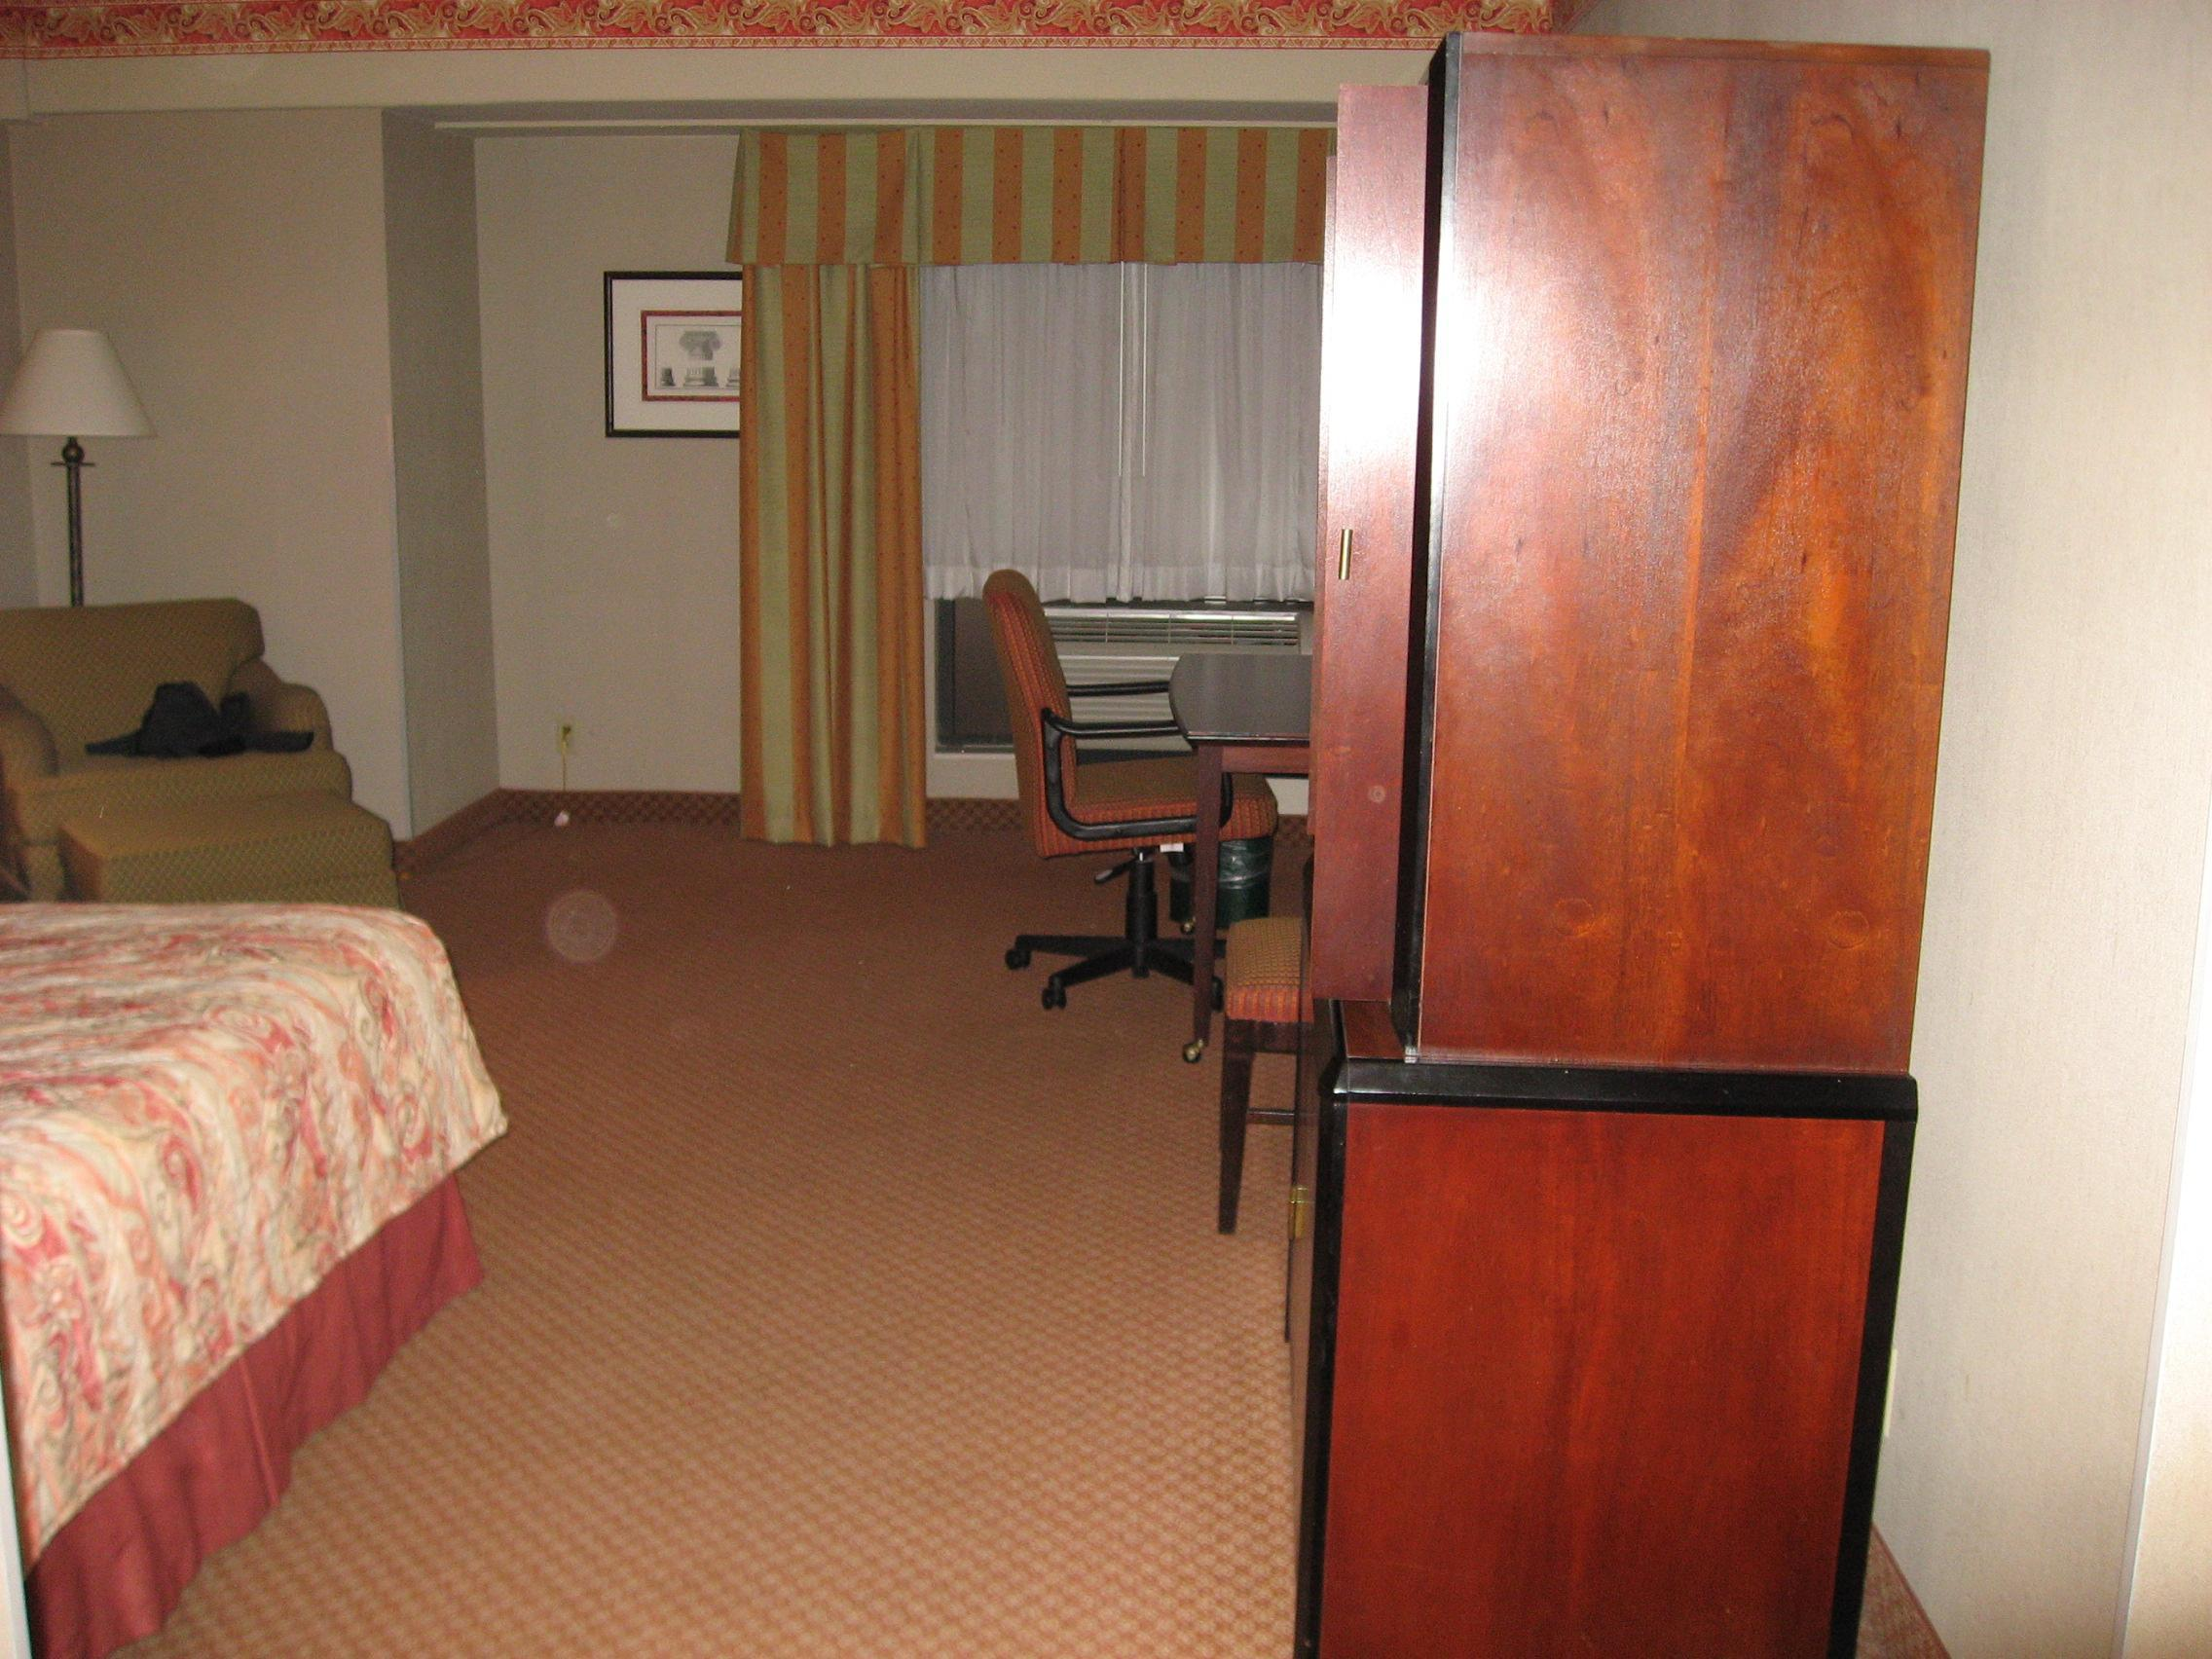Armario: (1331, 89, 1858, 1650)
Bote de Basura: (1183, 760, 1285, 943)
Cama: (3, 884, 449, 1652)
Ventana: (883, 185, 1324, 594)
